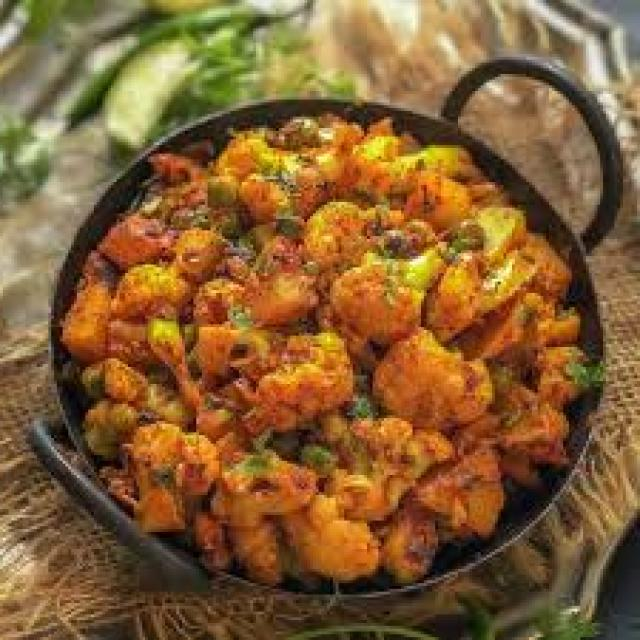Aloo Gobi: (196, 113, 576, 565)
